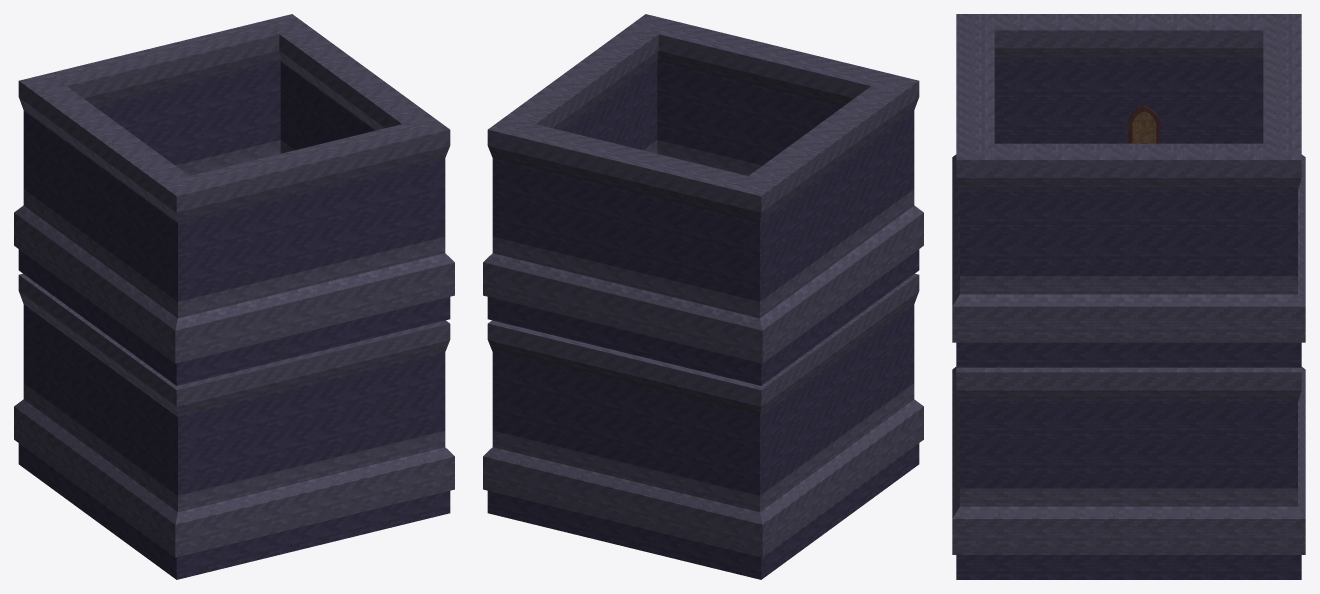
File: zamok.glb
The picture shows the model from 3 angles, left to right: view 1: azimuth 30°, elevation 25°; view 2: azimuth 150°, elevation 25°; view 3: azimuth 270°, elevation 25°; orthographic projection. The views are drawn at different scales.
Visible parts, largest first — view 1: wall_corner (×7), wall (×6), floor (×4); view 2: wall_corner (×7), wall (×6), floor (×4); view 3: wall_corner (×6), wall (×7), floor (×6), door.
Boxes of the visible parts, box(x1,y1,x2,y2) form: wall_corner (×7): box(14, 14, 454, 557); wall (×6): box(59, 32, 405, 538); floor (×4): box(18, 249, 450, 579); wall_corner (×7): box(483, 14, 923, 557); wall (×6): box(532, 32, 878, 538); floor (×4): box(487, 262, 901, 579); wall_corner (×6): box(952, 14, 1305, 554); wall (×7): box(952, 14, 1305, 554); floor (×6): box(956, 342, 1301, 579); door: box(1128, 106, 1160, 143).
Size of the model in its own units: 9.2 by 12.13 by 9.2.
100 materials, 100 textured.
